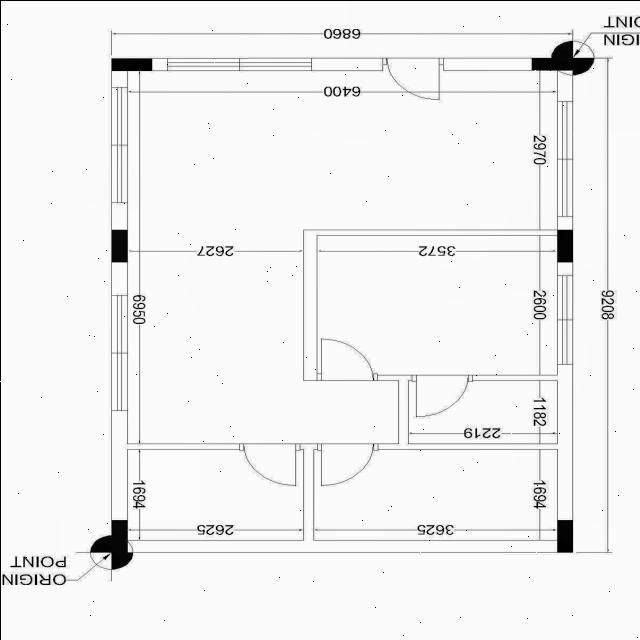Column: (530, 57, 572, 70), (110, 518, 126, 552), (556, 228, 572, 262), (556, 519, 572, 551), (111, 229, 127, 261), (110, 58, 152, 70)
Door: (378, 54, 448, 102), (410, 372, 480, 418), (313, 334, 379, 382), (314, 441, 380, 487), (236, 441, 300, 486)
Window: (106, 84, 131, 204), (106, 293, 130, 411), (553, 97, 576, 219), (163, 54, 314, 72), (554, 272, 574, 366)
